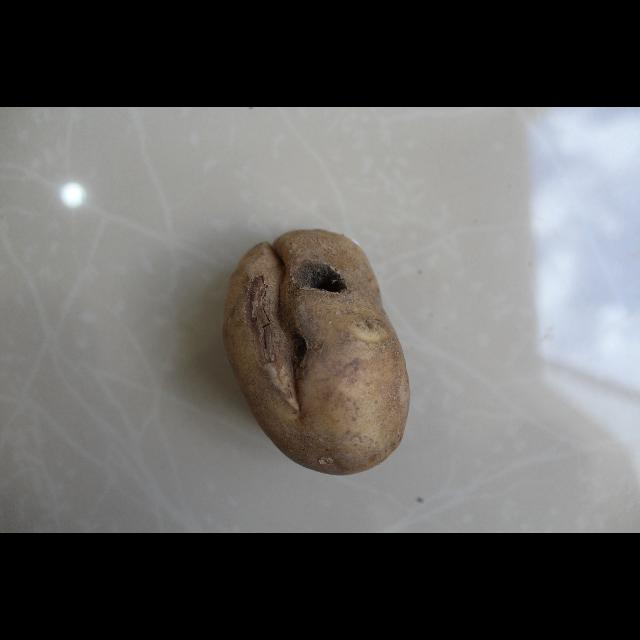Damaged potato: (222, 226, 412, 478)
